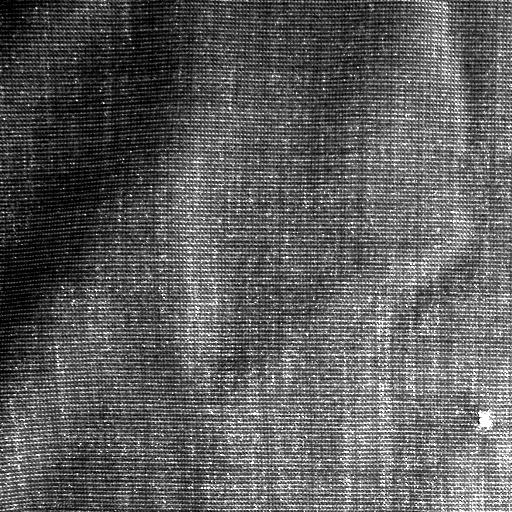fabric_hole: (472, 404, 496, 438)
